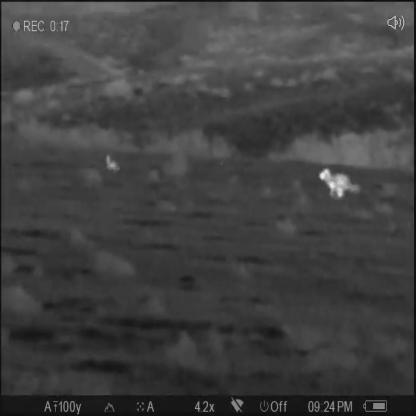rehkitze: (315, 164, 364, 200), (106, 152, 121, 172)
